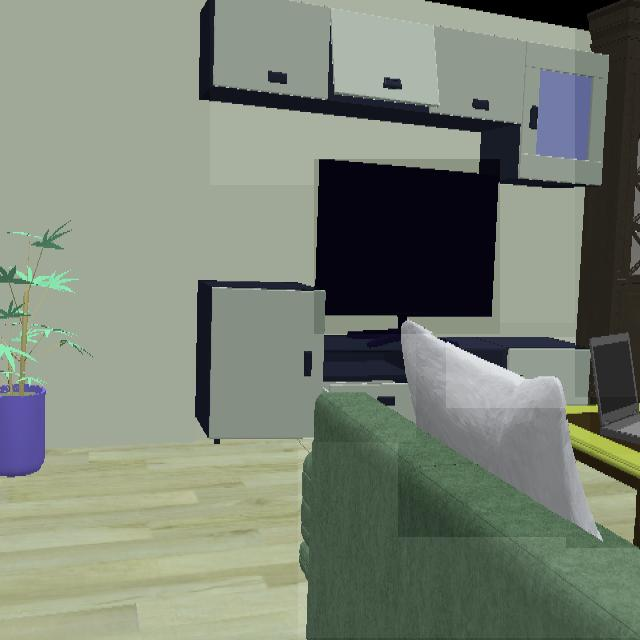bookshelf: (575, 0, 640, 397)
cabinet: (210, 0, 609, 185), (196, 283, 416, 442), (447, 337, 593, 407)
laptop: (590, 335, 640, 454)
monitor: (314, 160, 500, 333)
pillow: (399, 323, 601, 537)
sofa: (299, 393, 639, 639)
table: (567, 405, 640, 548)
